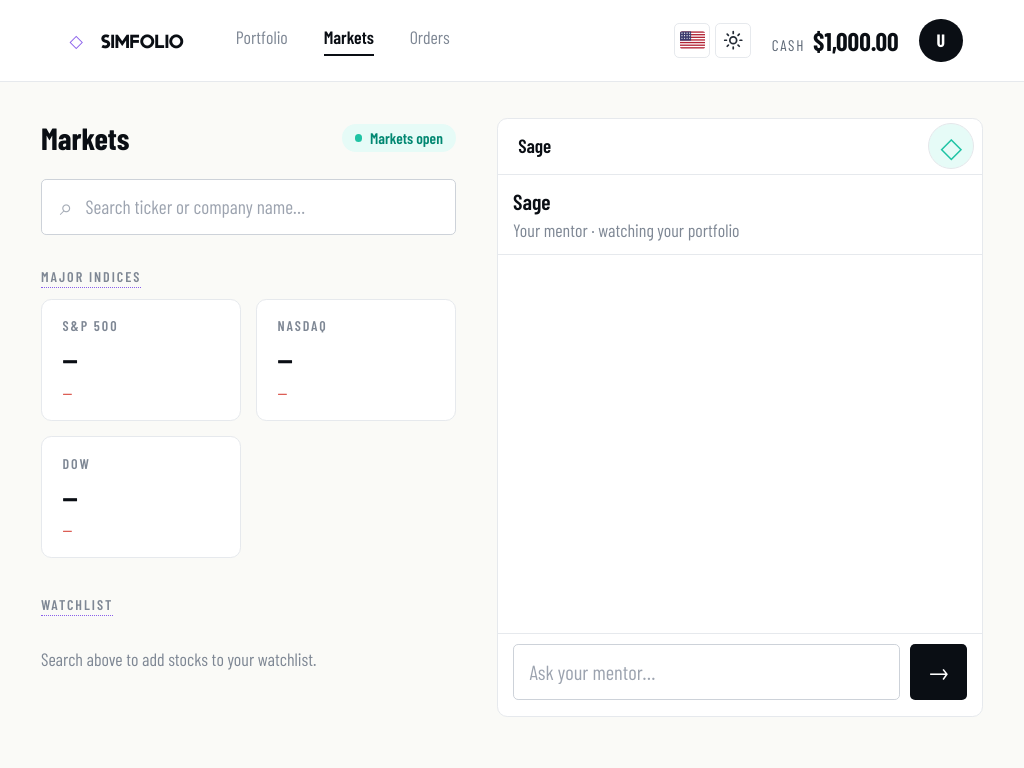
Suite 4 — behavior › T4.1 search results are deduped by symbol
Type "AAPL" into the search field with placeholder "Search ticker or company name…". click: (261, 207)
box: [86,193,437,222]
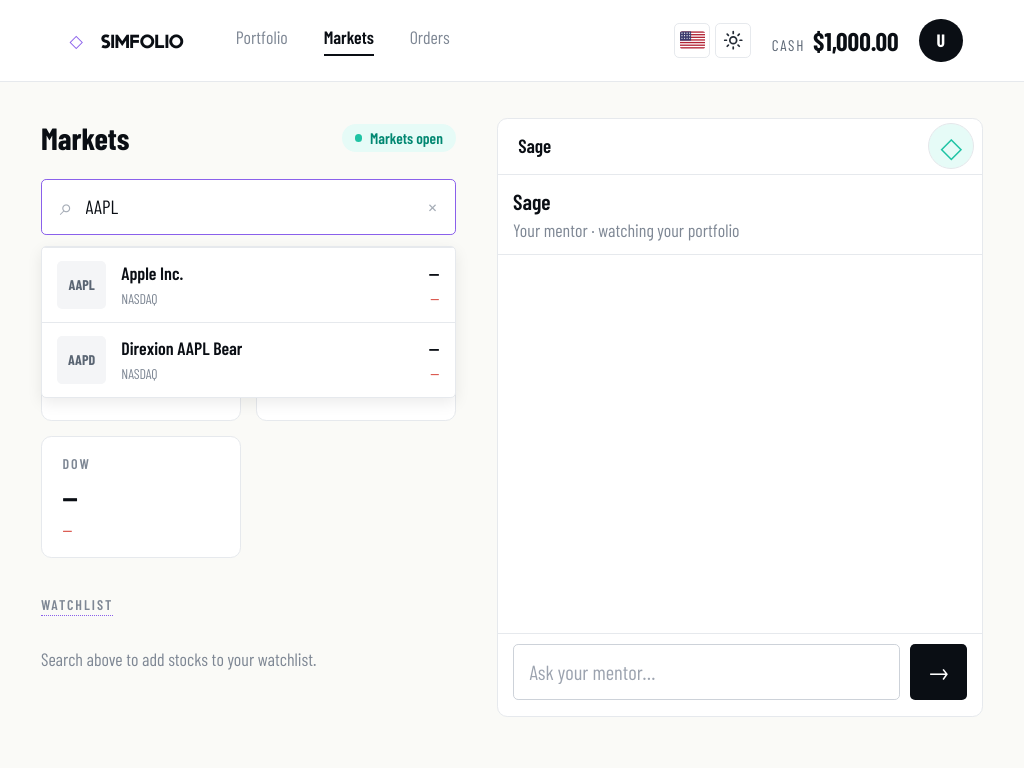
Expected: the text "Apple Inc." is shown once, [121,261,183,286]
Expected: the text "Direxion AAPL Bear" is shown, [121,336,242,362]
